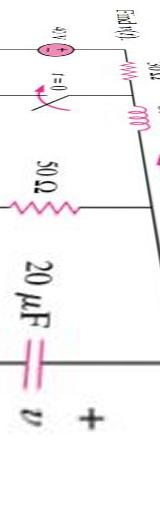inductor: (117, 94, 155, 141)
